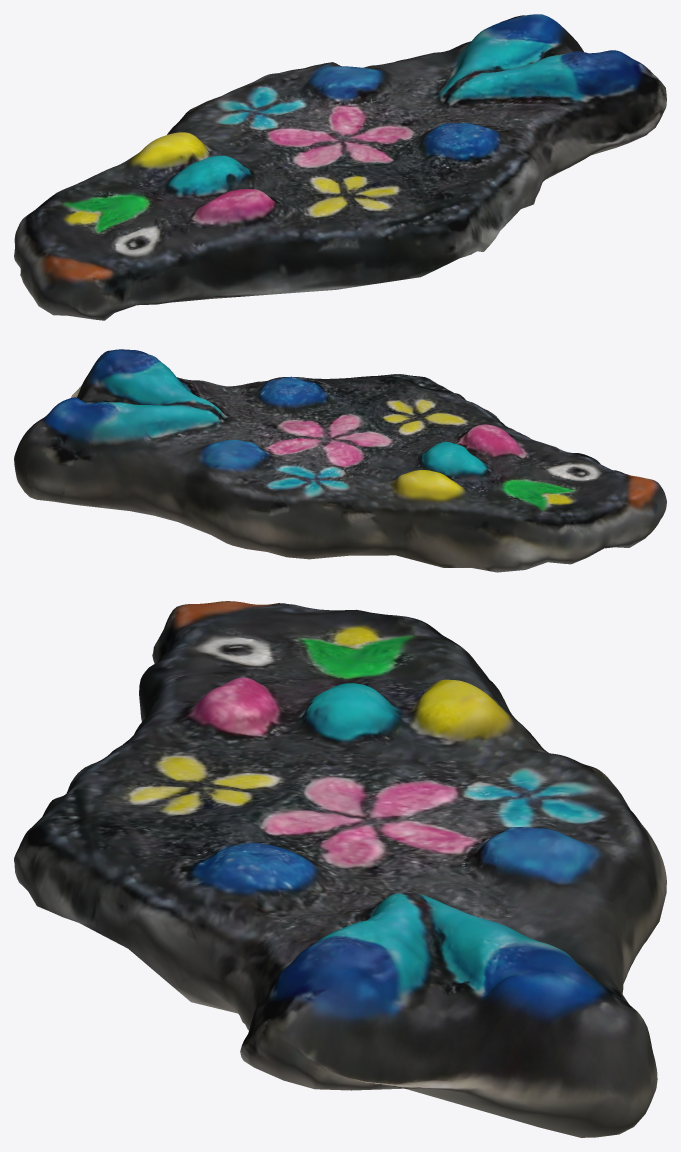
3 views of the same model, one above another, from view 1: azimuth 30°, elevation 25°; view 2: azimuth 150°, elevation 25°; view 3: azimuth 270°, elevation 25° (orthographic). The views are drawn at different scales.
Bounding box in the file's own units: 0.6611 × 0.1065 × 0.3778.
1 material, 1 textured.
